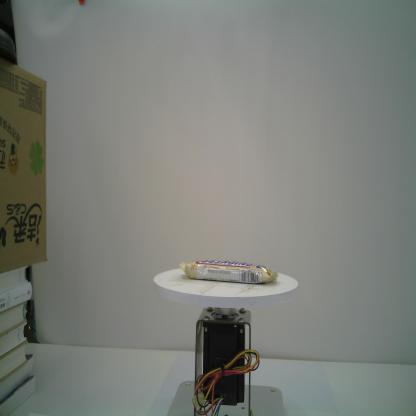Chocolate: (177, 258, 281, 286)
